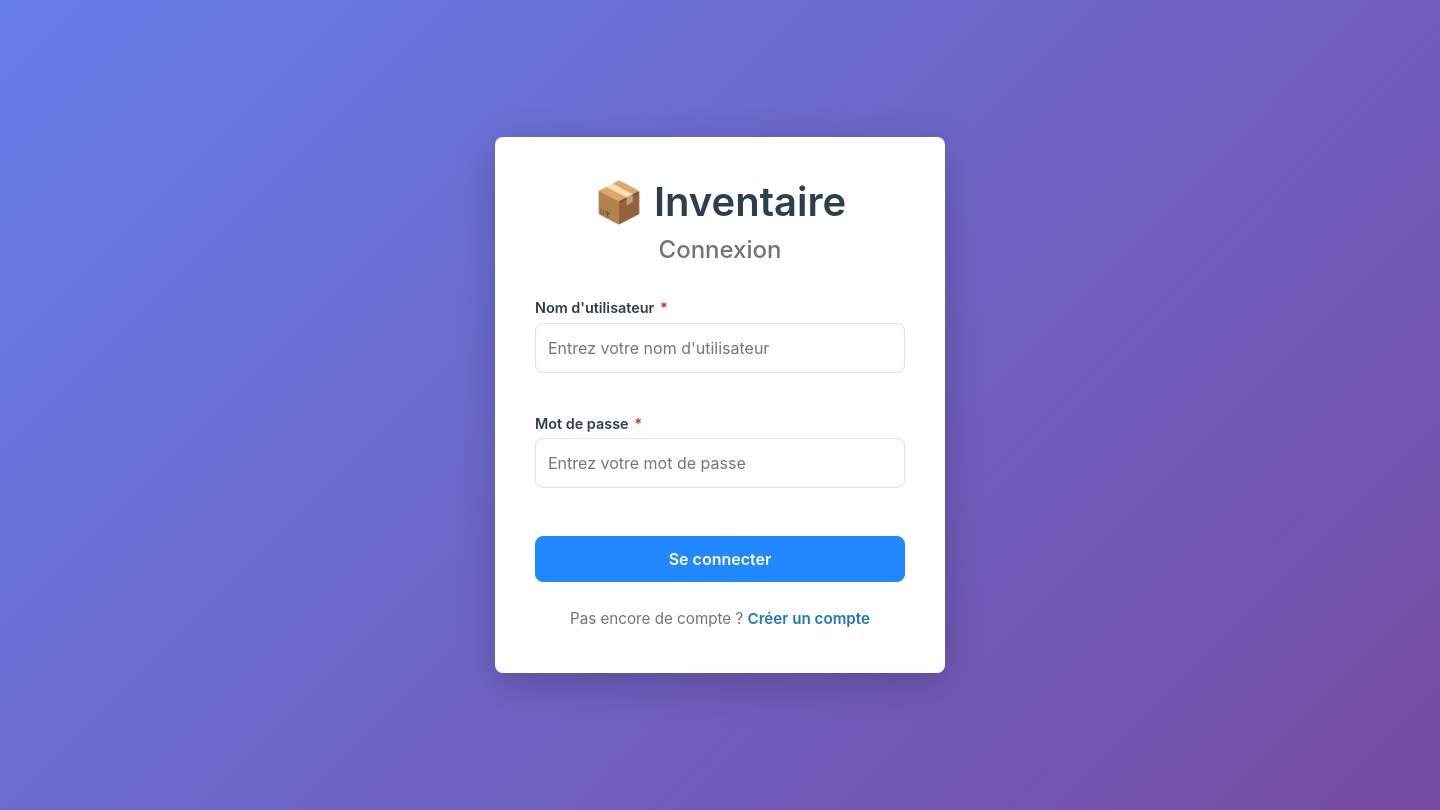
Test: Login › désactive les champs pendant la soumission
Type "testuser" into the field labelled "Nom d'utilisateur *" at x=720, y=348, box [535,323,905,373]
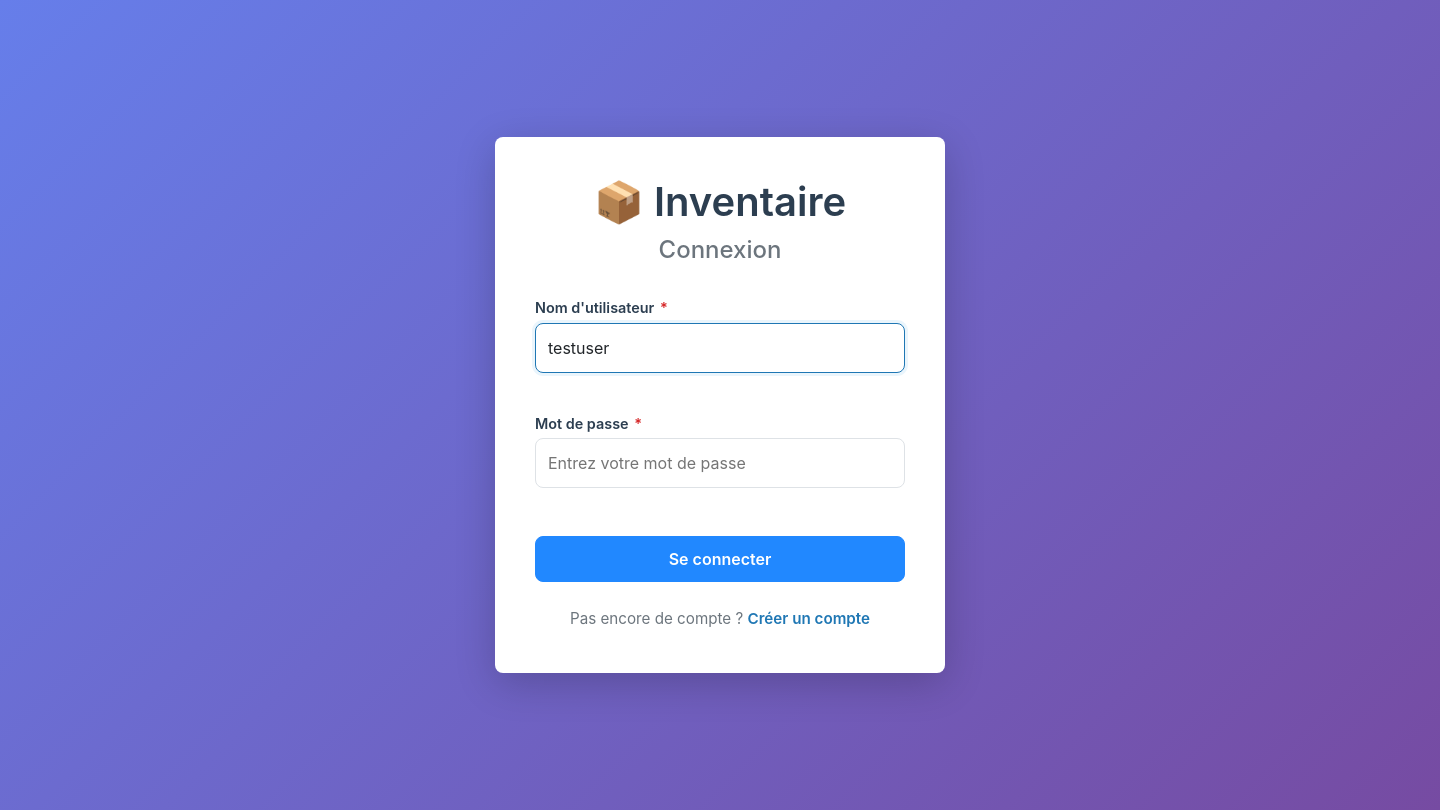
Type "password123" into the password field labelled "Mot de passe *" at x=720, y=463, box [535,438,905,488]
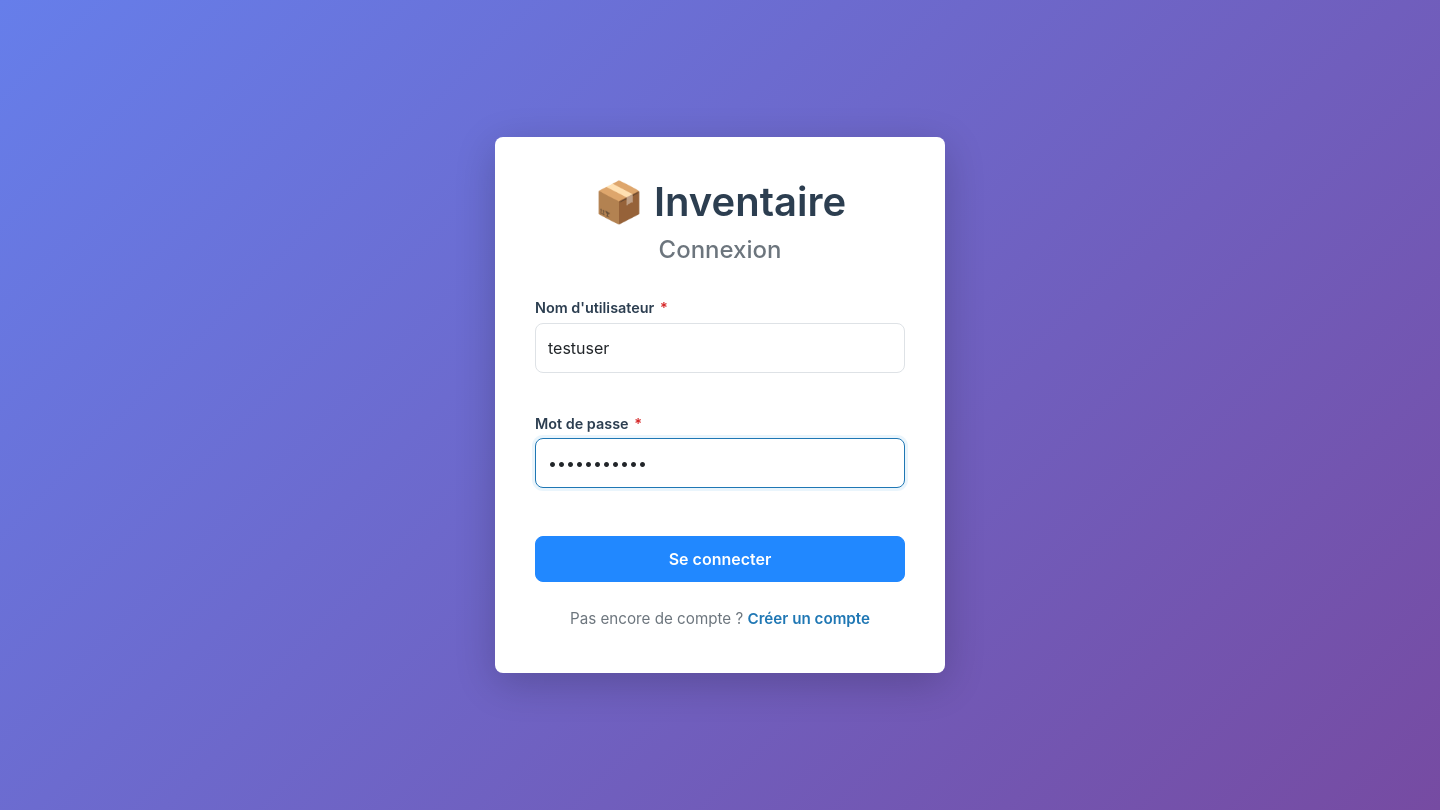
Click the button "Se connecter" at x=720, y=559, box [535,536,905,582]
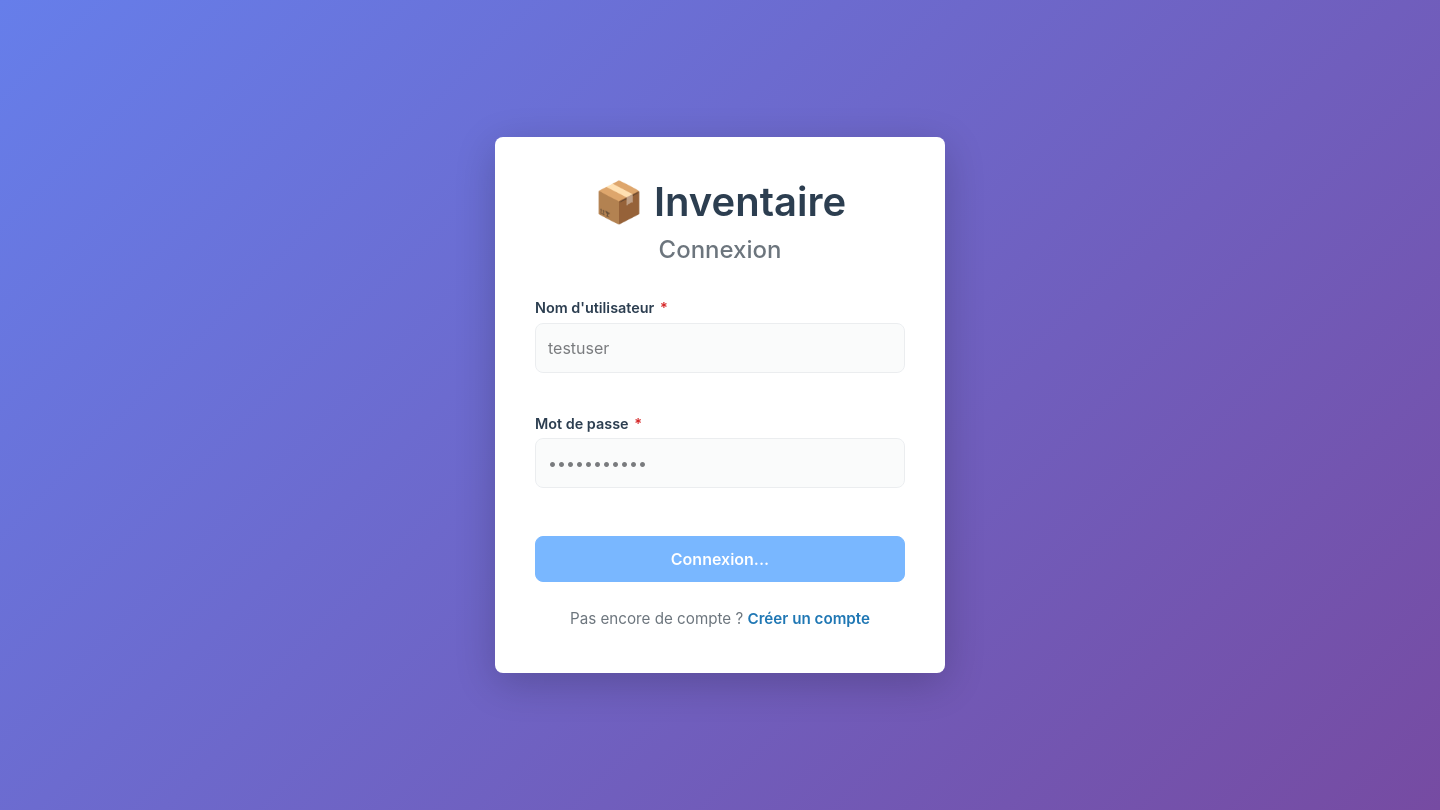
Check: the field labelled "Nom d'utilisateur *" is disabled, box [535,323,905,373]
Check: the password field labelled "Mot de passe *" is disabled, box [535,438,905,488]
Check: the button "Connexion..." is disabled, box [535,536,905,582]
